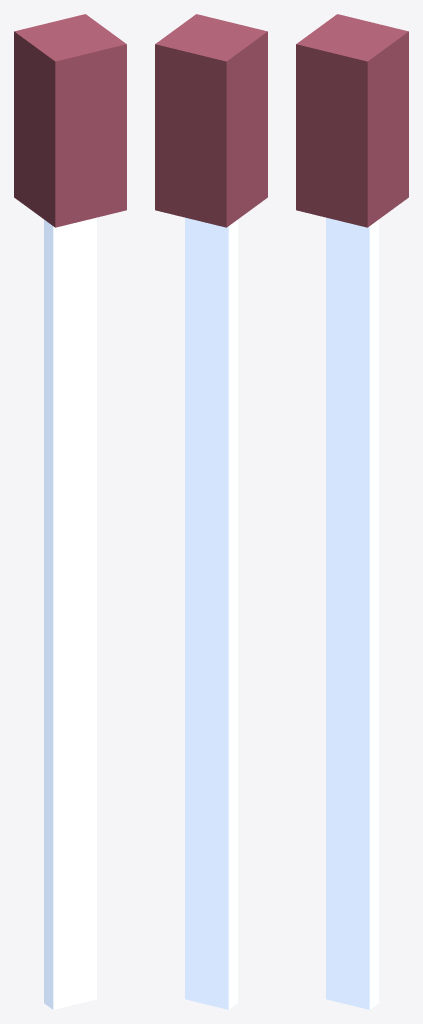
File: katana.glb
3 renders of one model, left to right at view 1: azimuth 30°, elevation 25°; view 2: azimuth 150°, elevation 25°; view 3: azimuth 330°, elevation 25°, orthographic.
Bounding box in the file's own units: 0.09 × 1.16 × 0.09.
